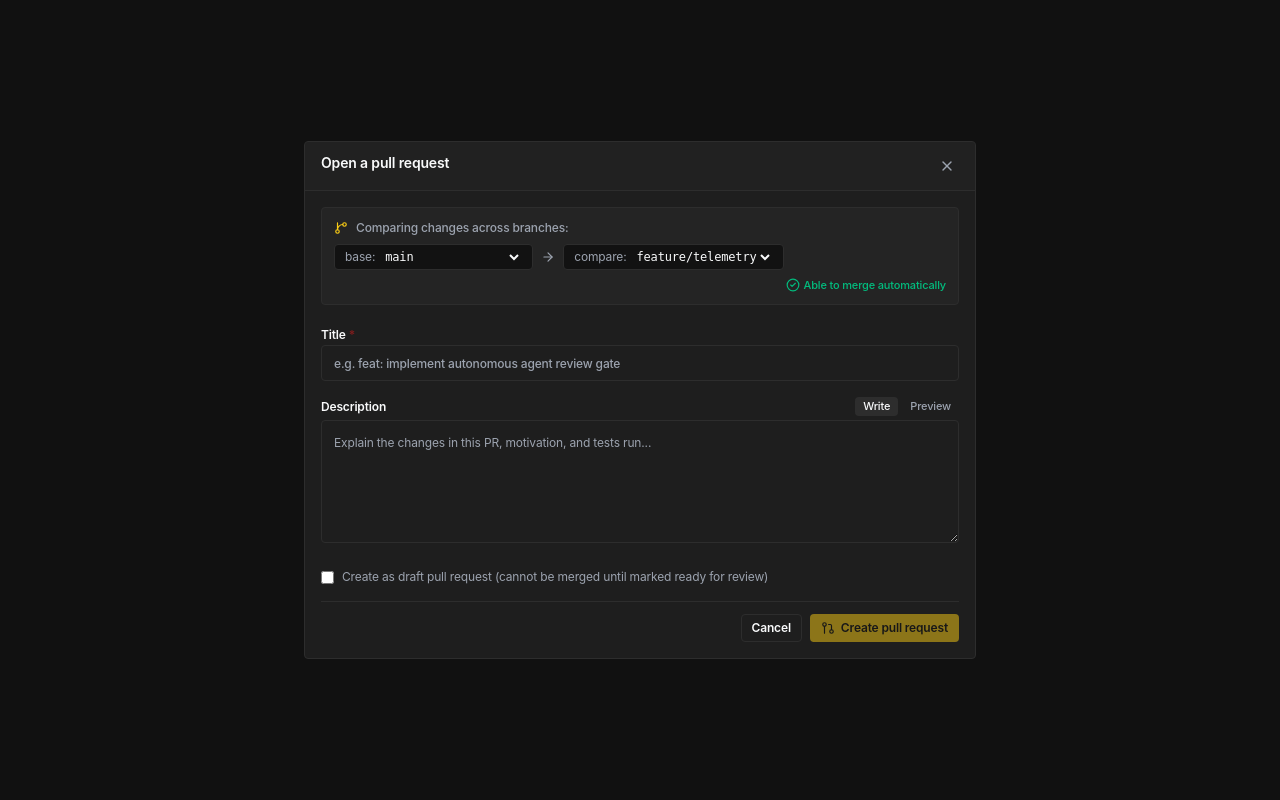
CreatePullRequestModal Component › validates that head and base branch cannot be identical
Expected: the dropdown showing "main" next to "base:" is shown, [381,249,522,265]
Type a title
Type "Test PR" into the field with placeholder "e.g. feat: implement autonomous agent review gate".
click(640, 363); type("Test PR")  # box [321,345,959,381]
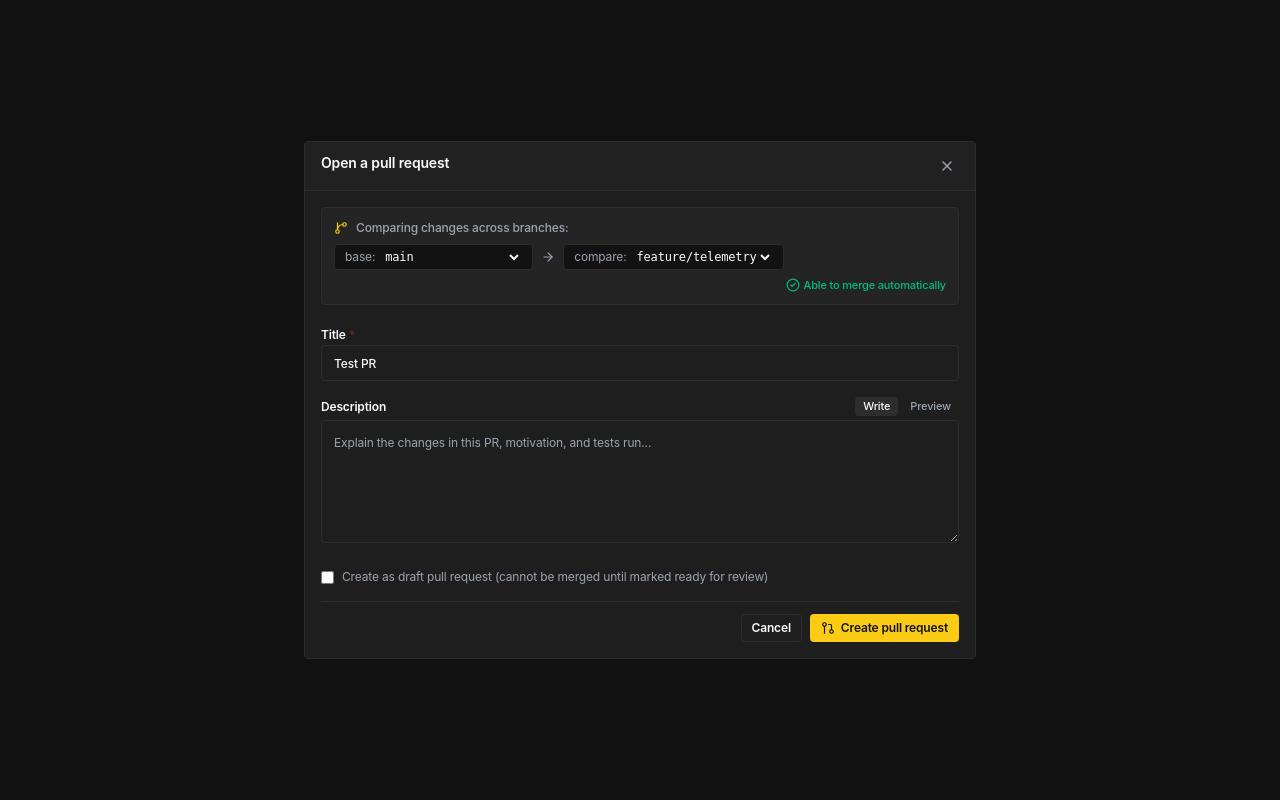
Change compare branch to 'main'
Select "main" in the dropdown next to "compare:" at coordinates (703, 257), box [632,249,774,265]
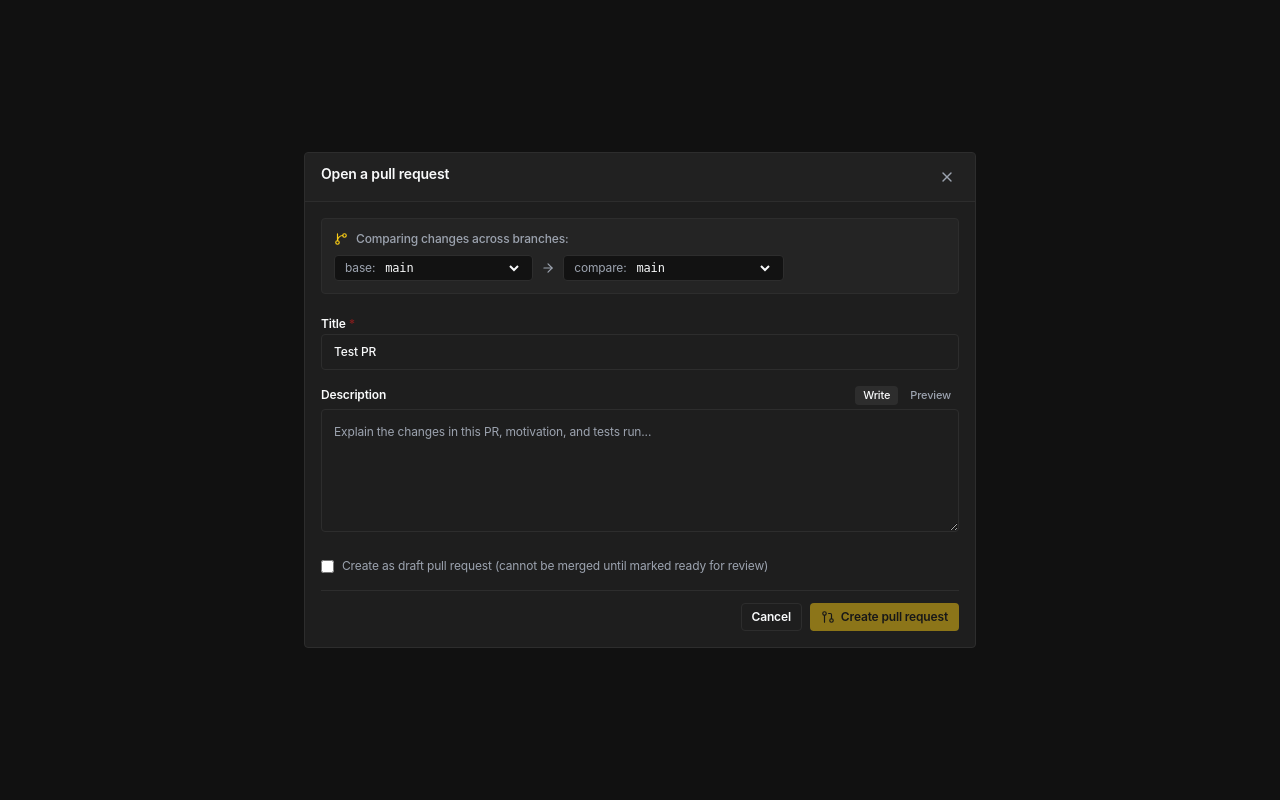
Expected: the button "Create pull request" is disabled, [810,603,959,631]
